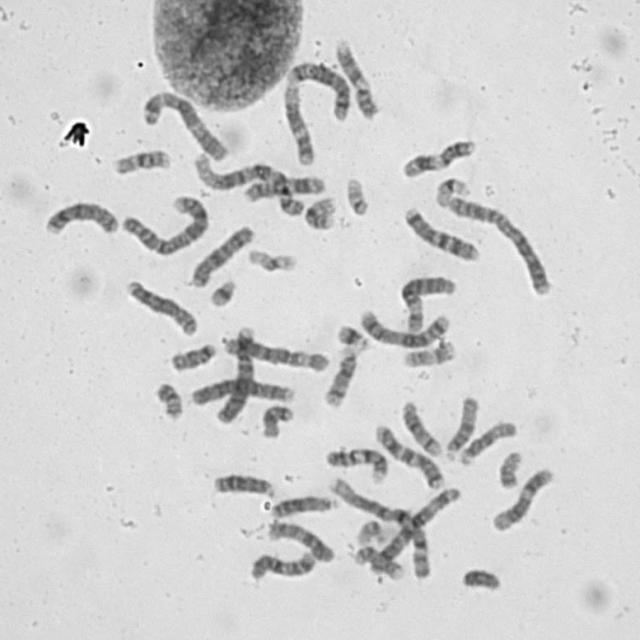A1: (328, 477, 433, 580), (190, 152, 304, 218)
A2: (448, 195, 552, 297), (121, 192, 211, 258)
A3: (369, 485, 460, 574), (141, 90, 227, 162)
B4: (217, 326, 256, 424), (188, 376, 298, 406)
B5: (286, 62, 348, 121), (360, 311, 451, 348)
C10: (268, 521, 335, 563), (250, 548, 314, 582)
C11: (404, 139, 476, 178), (242, 175, 325, 203)
C12: (491, 469, 553, 532), (282, 83, 314, 164)
C6: (222, 334, 331, 374), (399, 275, 456, 332)
C7: (374, 424, 444, 490), (405, 208, 481, 261)
C8: (125, 278, 199, 338), (45, 200, 121, 242)
C9: (334, 39, 378, 119), (326, 447, 388, 485)
D13: (209, 471, 275, 499), (271, 496, 338, 520)
D14: (401, 400, 442, 457), (322, 348, 358, 406)
D15: (458, 421, 516, 467), (446, 395, 479, 461)
E16: (114, 150, 174, 176), (304, 197, 337, 231)
E17: (352, 545, 404, 578), (404, 340, 453, 370)
E18: (172, 341, 215, 372), (260, 404, 296, 438)
F19: (433, 178, 472, 210), (249, 250, 298, 275)
F20: (498, 451, 526, 489), (156, 382, 183, 418)
G21: (338, 324, 370, 352), (210, 281, 236, 308)
G22: (346, 174, 368, 217), (356, 519, 387, 544)
X: (192, 226, 254, 287)
Y: (461, 567, 502, 592)
